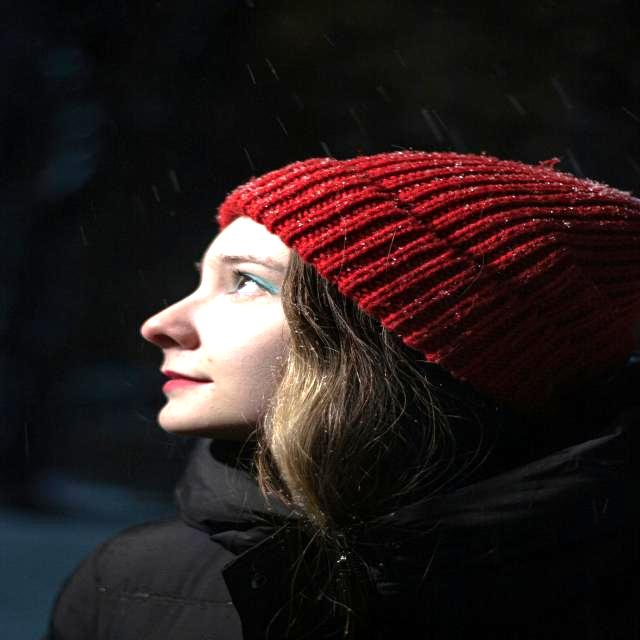no_hard_hat: (218, 151, 638, 407)
person: (46, 153, 640, 639)
